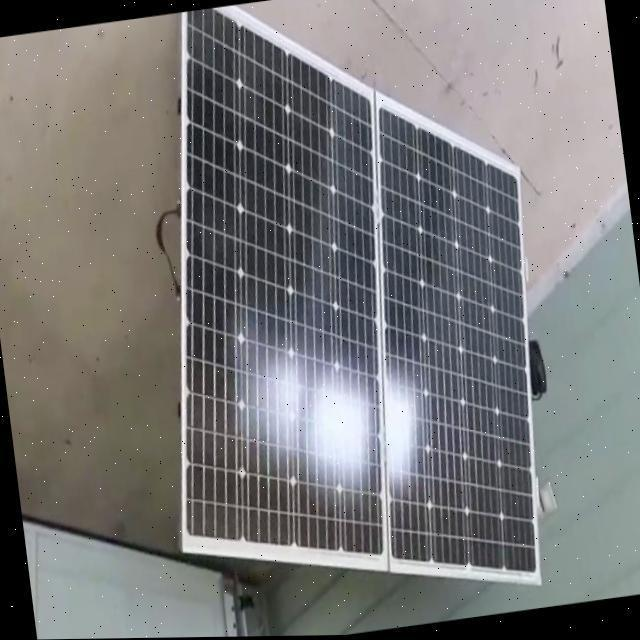Normal Solar Panel: (120, 0, 568, 631)
